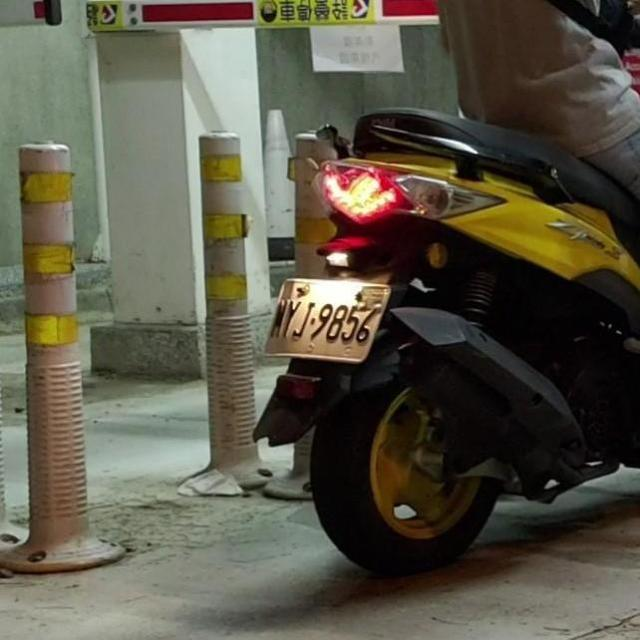W: (259, 269, 392, 369)
